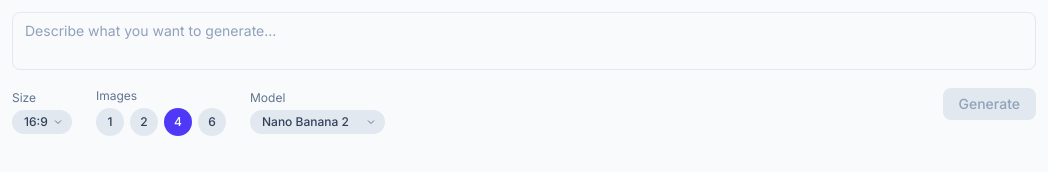
Scenario: GenerationForm › Generate button enabled when all conditions met › enables generate button when prompt, API key, and reference images exist
Step 1. Type "A nice landscape" into the text box with test id "prompt-textarea" → [524, 41], box left=12, top=12, right=1036, bottom=70
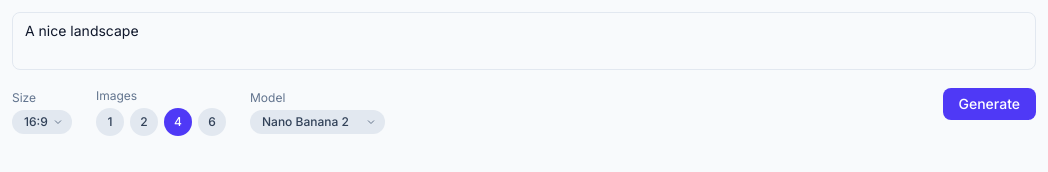
Expected: the button with test id "generate-button" is enabled, left=942, top=88, right=1036, bottom=120
